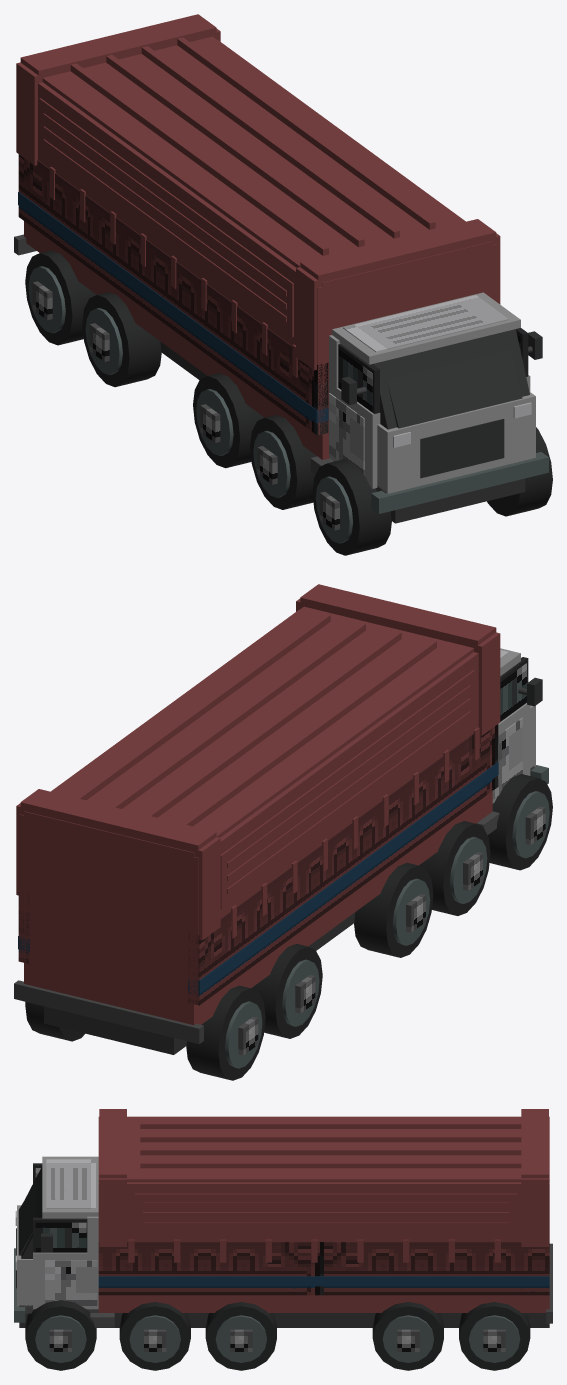
File: CMU3DAU14LargeTruckLongRedVehicleFinalCloud.glb
3 renders of one model, top to bottom at view 1: azimuth 30°, elevation 25°; view 2: azimuth 150°, elevation 25°; view 3: azimuth 270°, elevation 25°, orthographic. The views are drawn at different scales.
Parts seen in each view (by area): view 1: cargo roof sheet, raised upper cargo relief panel -1, reinforced transverse roof band (×2), original corrugated wall detail -1 0, cargo shell side -1, original corrugated wall detail -1 1, closed cargo end bulkhead, sloped windshield glass, cab lower front, physical upper panel flute -1 (×3), cargo floor, original cab roof vent (+31 smaller); view 2: cargo roof sheet, closed cargo end bulkhead, raised upper cargo relief panel -1, reinforced transverse roof band (×2), cargo shell side -1, cargo floor, original corrugated wall detail -1 1, original corrugated wall detail -1 0, physical upper panel flute -1 (×3), lower body red or blue stripe -1, reinforced cargo end upright -1 (×2), rear chassis bumper (+25 smaller); view 3: cargo roof sheet, raised upper cargo relief panel 1, original corrugated wall detail 1 1, original corrugated wall detail 1 0, cargo shell side 1, cargo floor, physical upper panel flute 1 (×3), lower body red or blue stripe 1, reinforced transverse roof band (×2), reinforced cargo end upright 1 (×2), raised longitudinal roof rib 1, raised longitudinal roof rib 2 (+31 smaller).
Part boxes in pixels (x1,y1,x2,y2): cargo roof sheet: (42, 36, 492, 290); raised upper cargo relief panel -1: (39, 98, 293, 337); reinforced transverse roof band (×2): (20, 14, 496, 284); original corrugated wall detail -1 0: (168, 255, 328, 435); cargo shell side -1: (38, 82, 327, 434); original corrugated wall detail -1 1: (18, 154, 168, 325); closed cargo end bulkhead: (322, 245, 492, 435); sloped windshield glass: (387, 350, 522, 428); cab lower front: (377, 391, 535, 493); physical upper panel flute -1 (×3): (43, 113, 286, 322); cargo floor: (24, 221, 329, 459); original cab roof vent: (343, 295, 508, 352); cargo roof sheet: (24, 606, 473, 860); closed cargo end bulkhead: (24, 814, 193, 1004); raised upper cargo relief panel -1: (220, 670, 474, 909); reinforced transverse roof band (×2): (20, 584, 496, 853); cargo shell side -1: (189, 652, 478, 1005); cargo floor: (24, 791, 492, 1025); original corrugated wall detail -1 1: (188, 825, 348, 1005); original corrugated wall detail -1 0: (348, 724, 498, 895); physical upper panel flute -1 (×3): (227, 685, 470, 893); lower body red or blue stripe -1: (188, 762, 498, 993); reinforced cargo end upright -1 (×2): (186, 632, 500, 940); rear chassis bumper: (14, 980, 203, 1043); cargo roof sheet: (98, 1116, 549, 1182); raised upper cargo relief panel 1: (135, 1193, 517, 1234); original corrugated wall detail 1 1: (324, 1242, 549, 1295); original corrugated wall detail 1 0: (98, 1242, 323, 1295); cargo shell side 1: (98, 1182, 549, 1241); cargo floor: (98, 1295, 549, 1312); physical upper panel flute 1 (×3): (143, 1202, 509, 1226); lower body red or blue stripe 1: (98, 1276, 549, 1286); reinforced transverse roof band (×2): (99, 1109, 548, 1178); reinforced cargo end upright 1 (×2): (99, 1178, 548, 1246); raised longitudinal roof rib 1: (140, 1135, 521, 1142); raised longitudinal roof rib 2: (140, 1148, 521, 1155).
Size of the model in its own units: 1.36 by 1.58 by 4.
18 materials, 6 textured.
